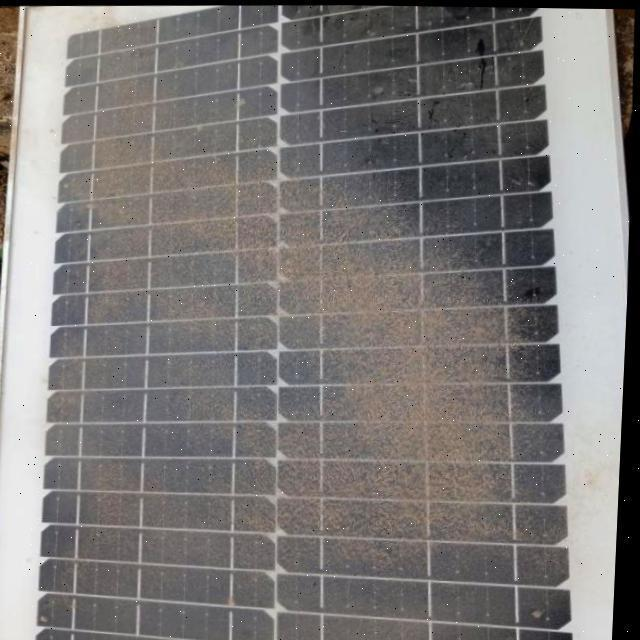Anomaly Solar Panel: (57, 9, 546, 640)
Surface Contaminant: (68, 14, 536, 640)
